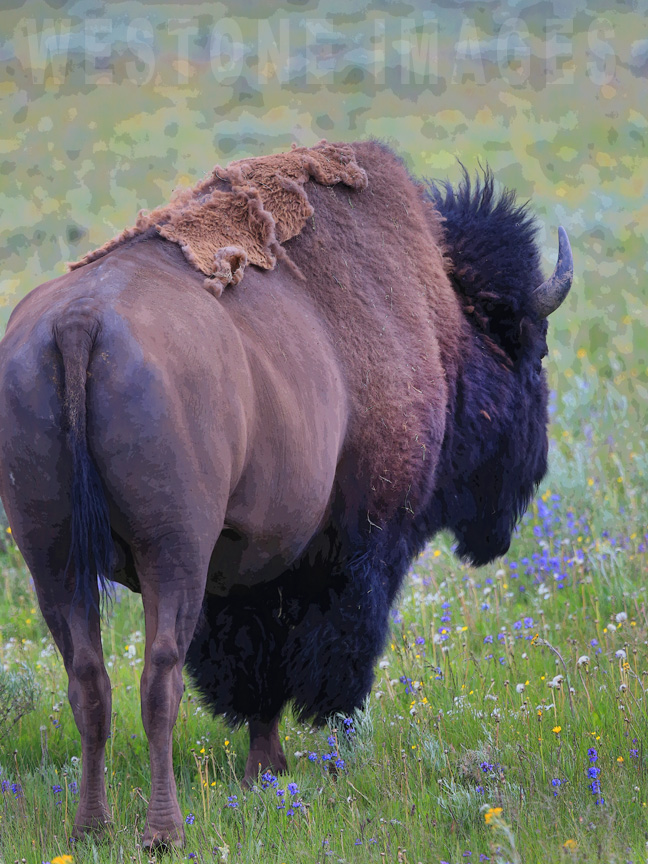yak: (1, 133, 576, 850)
